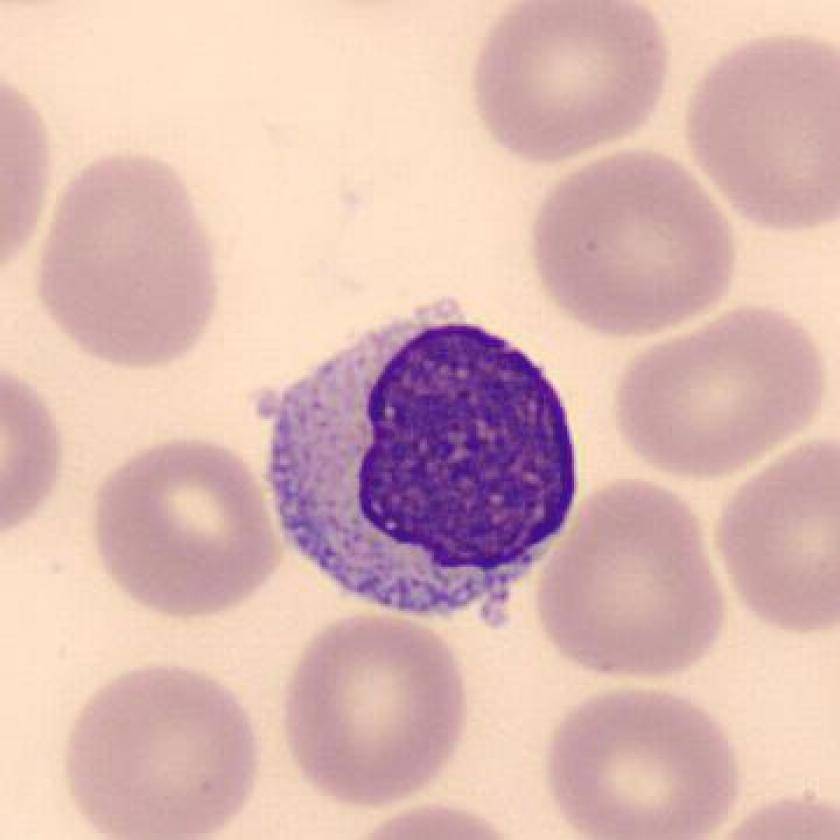lymphocyte: (234, 286, 589, 649)
